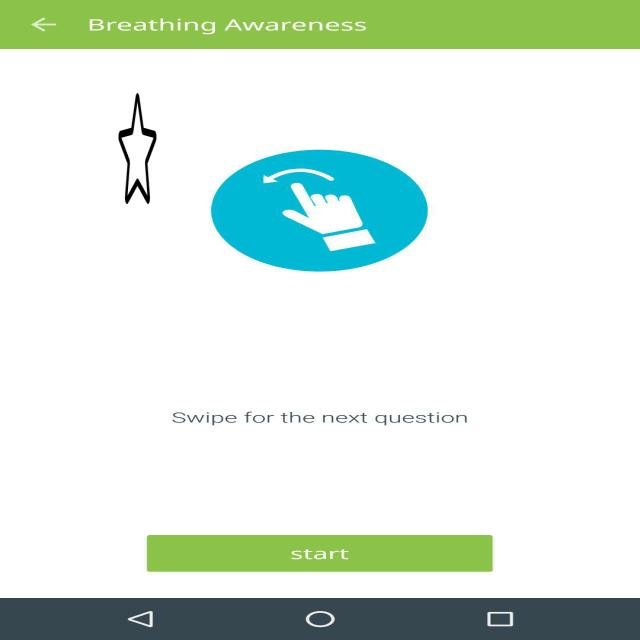forced continuity: (118, 91, 156, 206)
